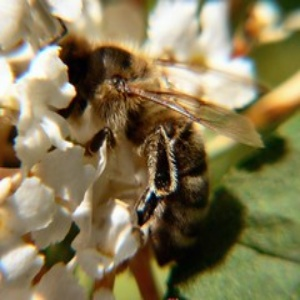bee: (64, 35, 265, 250)
